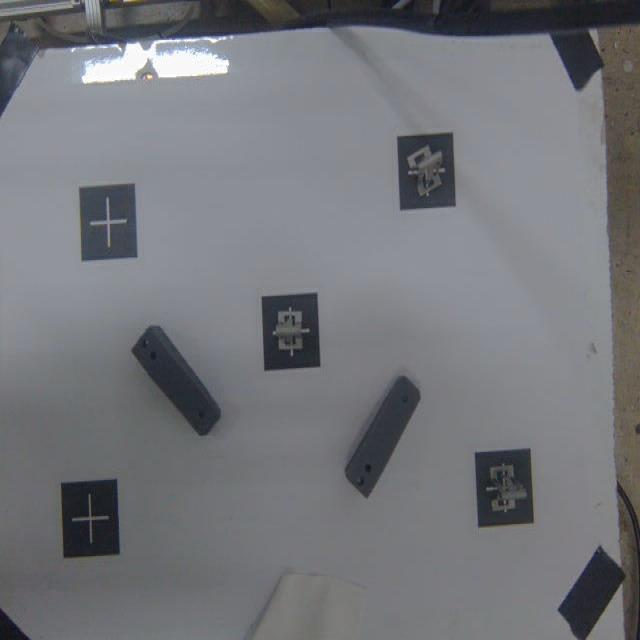pick2: (401, 136, 456, 206)
pick3: (262, 298, 319, 366)
pick5: (476, 451, 534, 524)
